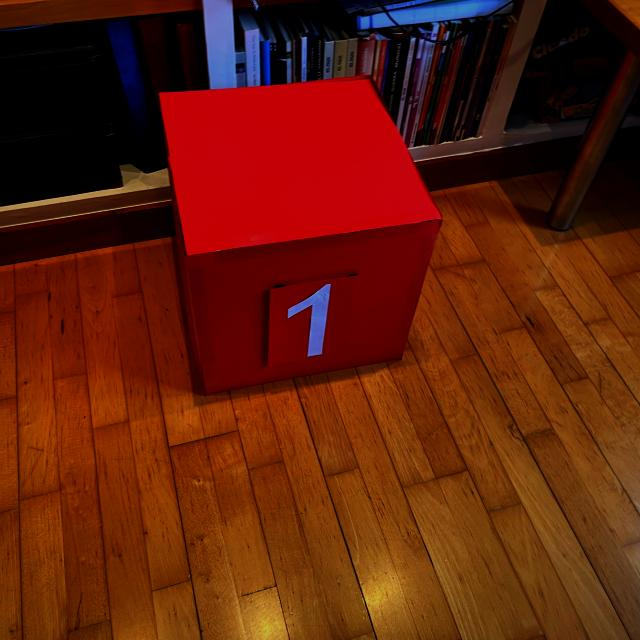box: (154, 72, 445, 396)
